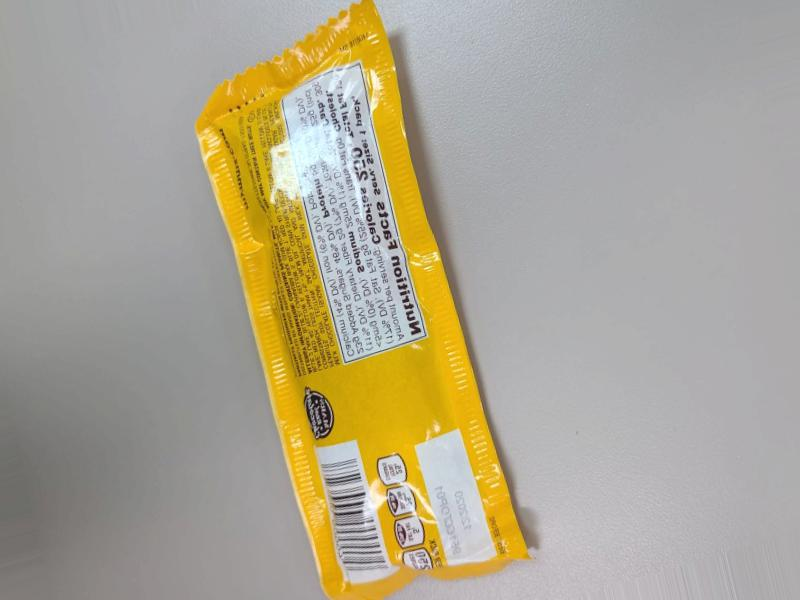m&m: (193, 63, 543, 459)
